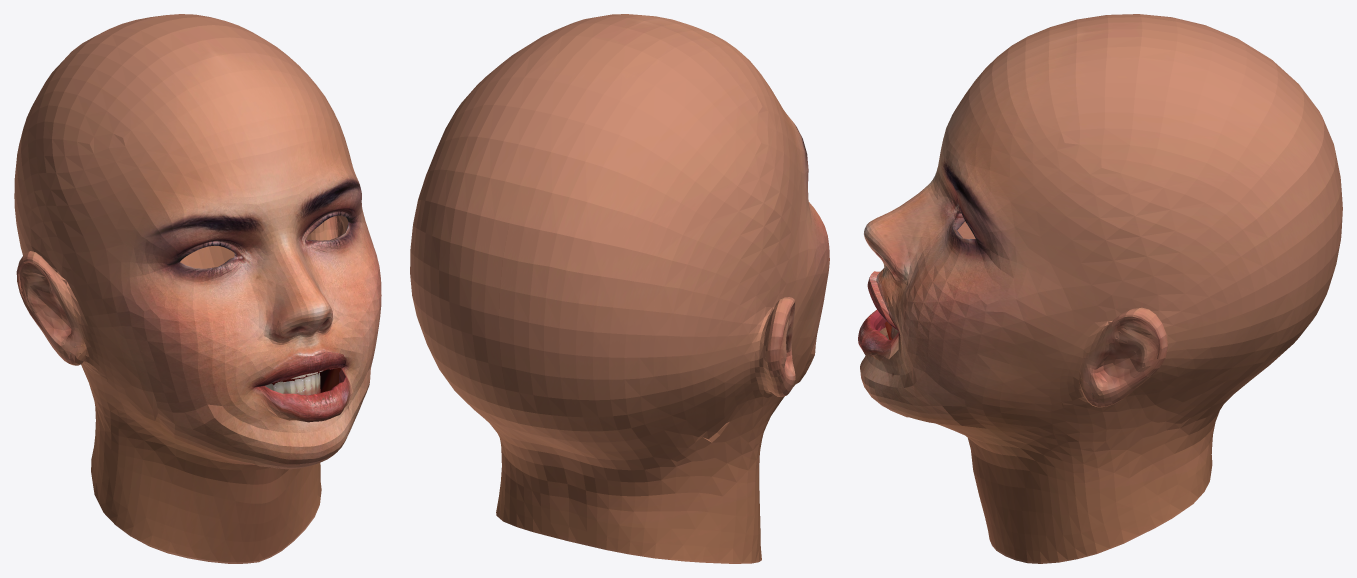
The picture shows the model from 3 angles, left to right: view 1: azimuth 30°, elevation 25°; view 2: azimuth 150°, elevation 25°; view 3: azimuth 270°, elevation 25°; orthographic projection. The views are drawn at different scales.
Parts seen in each view (by area): view 1: Mesh_skin_hi.001, Mesh.003_teethLower.001; view 2: Mesh_skin_hi.001; view 3: Mesh_skin_hi.001.
Boxes of the visible parts, bbox=[...] form: Mesh_skin_hi.001: bbox=[14, 14, 381, 563]; Mesh.003_teethLower.001: bbox=[265, 372, 320, 395]; Mesh_skin_hi.001: bbox=[410, 14, 829, 563]; Mesh_skin_hi.001: bbox=[858, 14, 1342, 563].
Bounding box in the file's own units: 198 × 283 × 244.
Materials: 5 (5 with a texture image).
